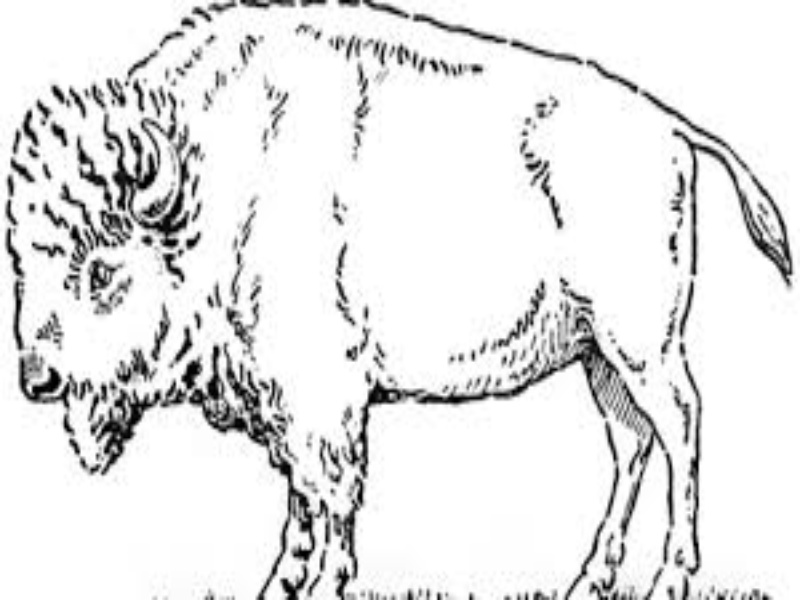buffalo: (9, 16, 779, 585)
